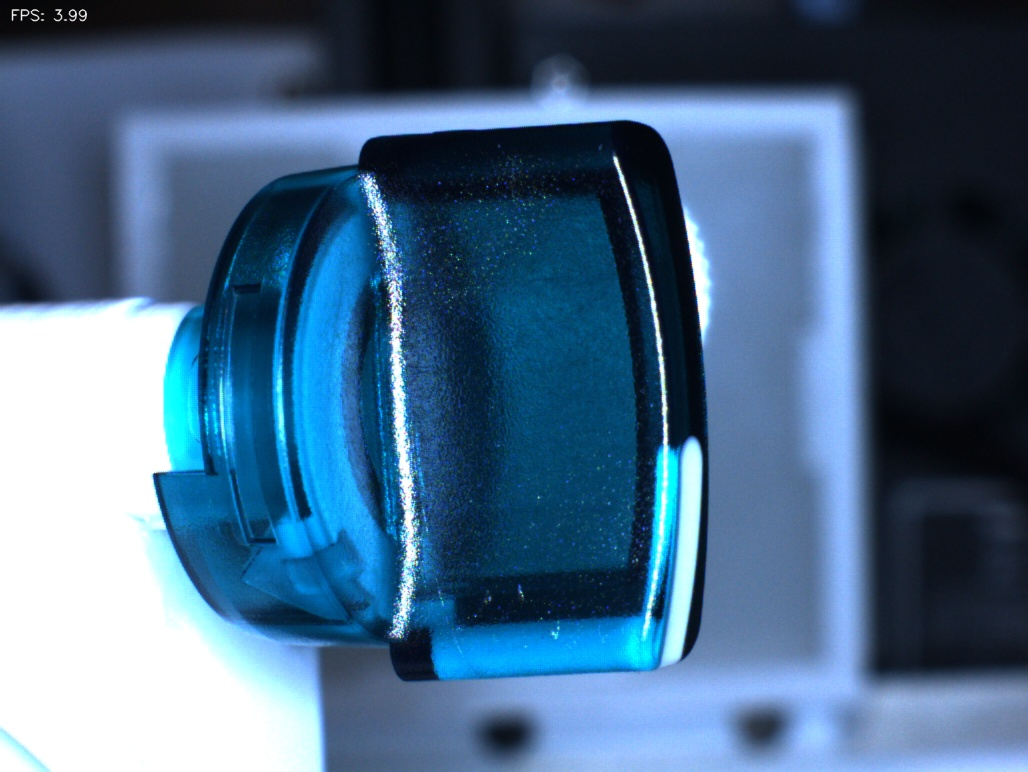Givrage: (496, 561, 589, 655)
